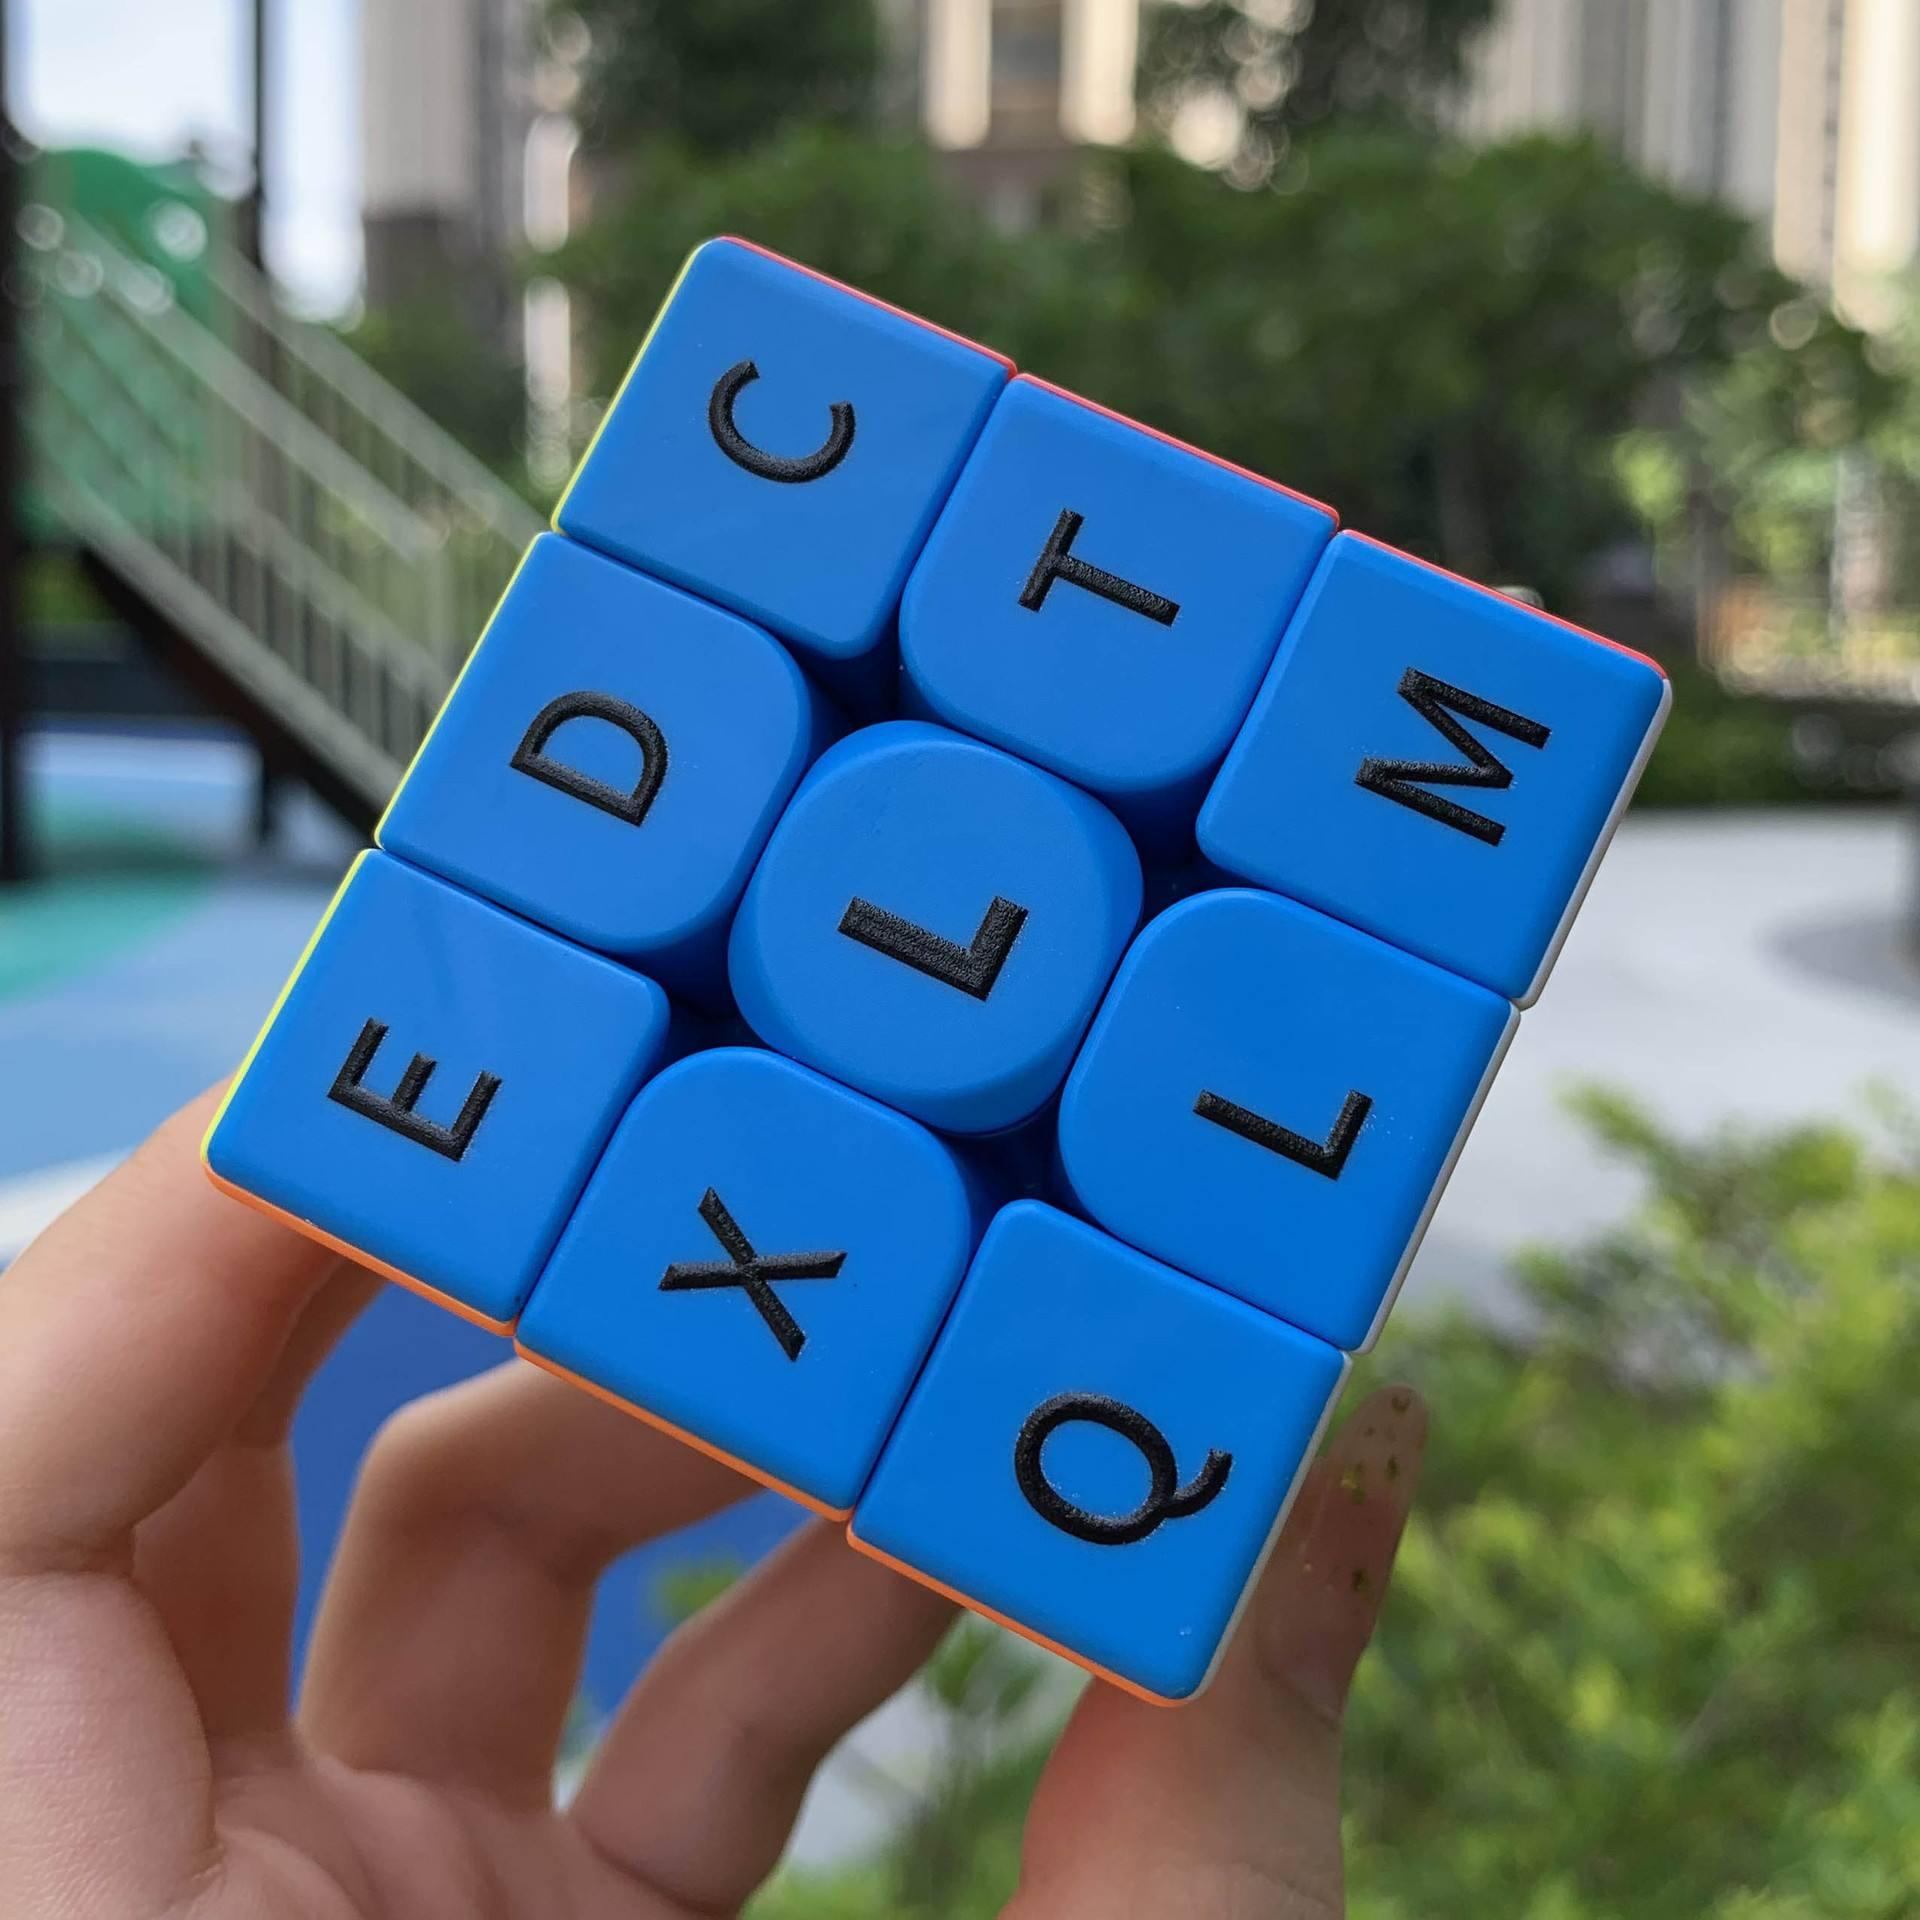cube: (167, 190, 1653, 1755)
